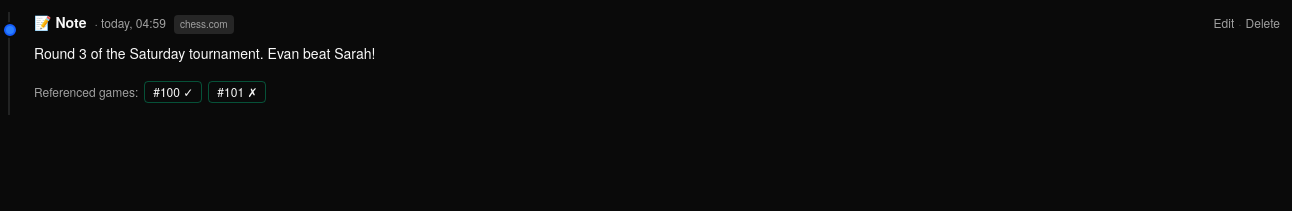
Scenario: EntryCard — note edit/delete (v1.12.0) › clicking Edit swaps the body for a textarea
This screenshot has width=1292, height=211.
Click the button with aria-label "Edit note" at (1224, 23), box [1214,15,1234,31]
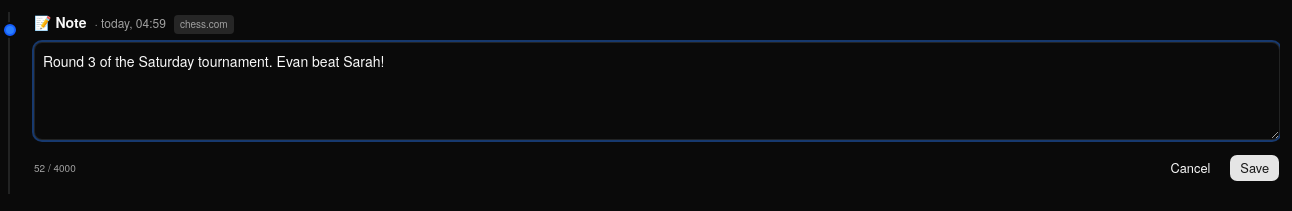
Expected: the text box named "Edit note body" holds "Round 3 of the Saturday tournament. Evan beat Sarah!", [34,42,1280,140]
